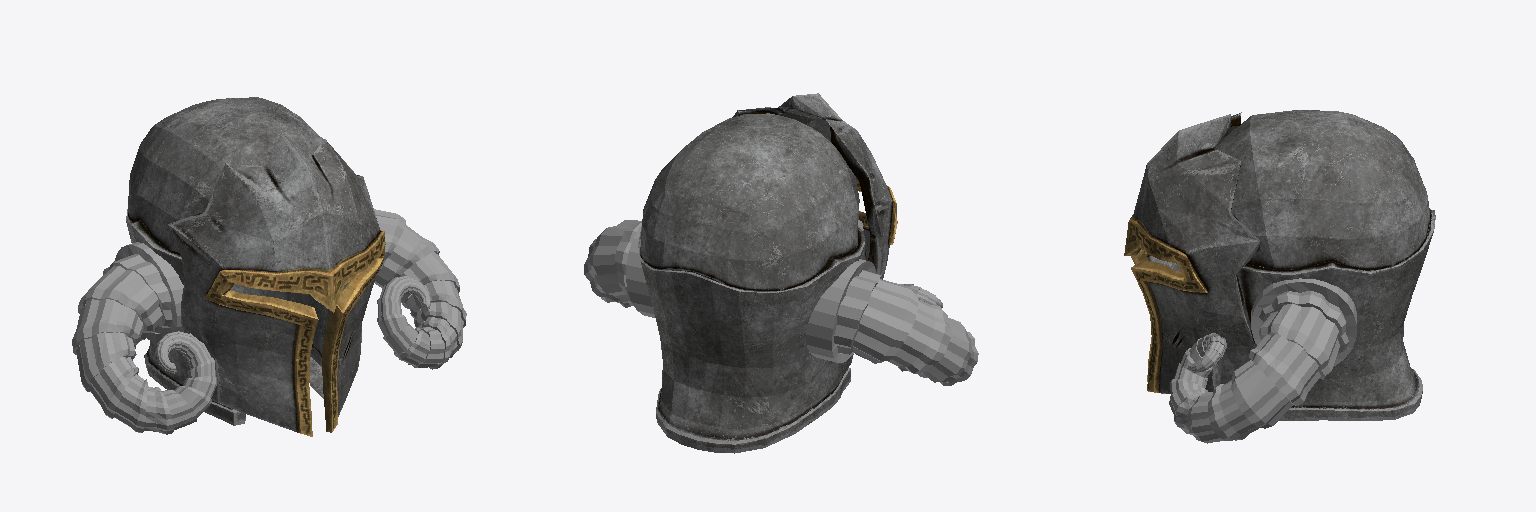
3 renders of one model, left to right at view 1: azimuth 30°, elevation 25°; view 2: azimuth 150°, elevation 25°; view 3: azimuth 270°, elevation 25°, orthographic.
Parts seen in each view (by area): view 1: ZBrush_defualt_group, Circle.003; view 2: ZBrush_defualt_group, Circle.003; view 3: ZBrush_defualt_group, Circle.003.
Boxes of the visible parts, box(x1,y1,x2,y2) form: ZBrush_defualt_group: box(126, 97, 385, 436); Circle.003: box(72, 209, 466, 434); ZBrush_defualt_group: box(638, 93, 897, 453); Circle.003: box(584, 220, 978, 385); ZBrush_defualt_group: box(1124, 110, 1435, 420); Circle.003: box(1169, 278, 1356, 443).
Size of the model in its own units: 15.28 by 11.16 by 11.1.
Materials: 2 (1 with a texture image).